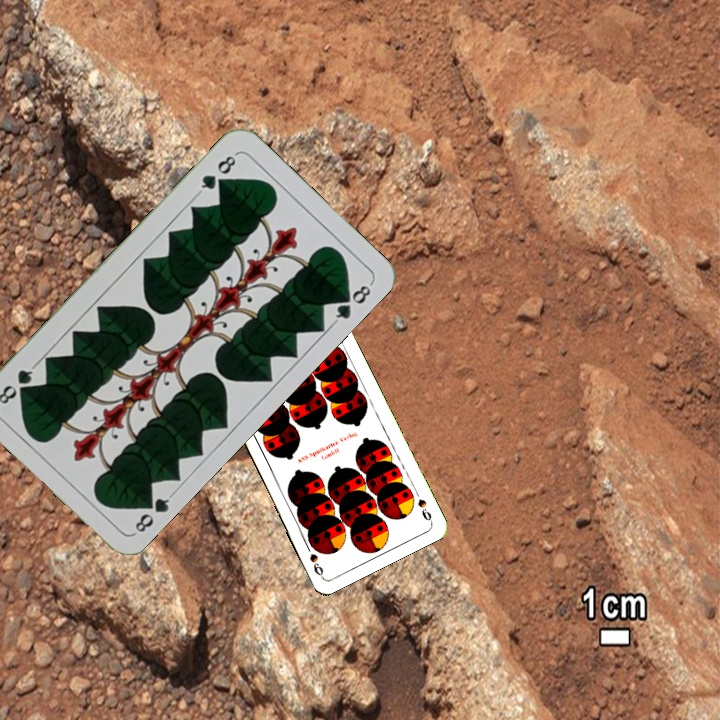G8: (194, 149, 240, 196), (130, 490, 176, 537)
S9: (413, 494, 435, 525)
